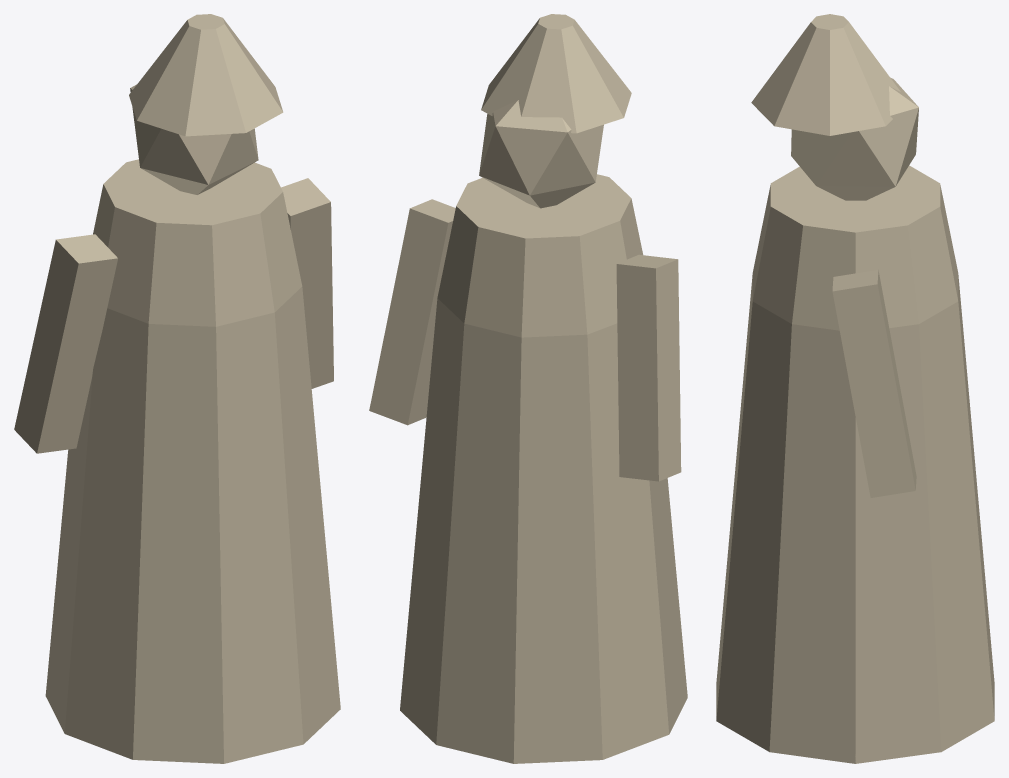
The model's file is townsfolk_a.fbx.
The picture shows the model from 3 angles, left to right: view 1: azimuth 30°, elevation 25°; view 2: azimuth 150°, elevation 25°; view 3: azimuth 270°, elevation 25°; orthographic projection. The views are drawn at different scales.
Visible parts, largest first — view 1: townsfolk_a; view 2: townsfolk_a; view 3: townsfolk_a.
Part boxes in pixels (bbox=[...]): townsfolk_a: bbox=[14, 14, 340, 763]; townsfolk_a: bbox=[369, 14, 687, 763]; townsfolk_a: bbox=[716, 14, 994, 763].
Size of the model in its own units: 266 by 590 by 219.
